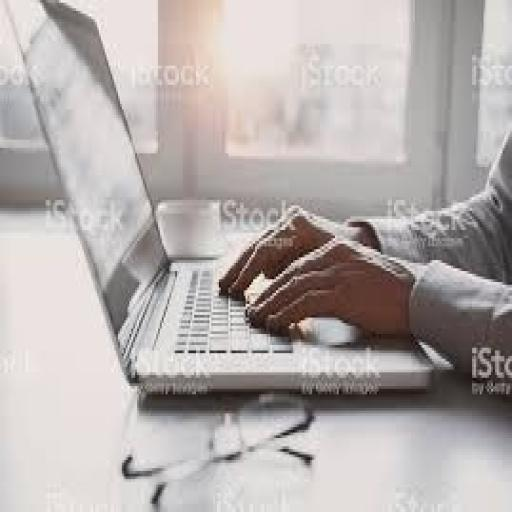using_laptop: (17, 0, 438, 397)
